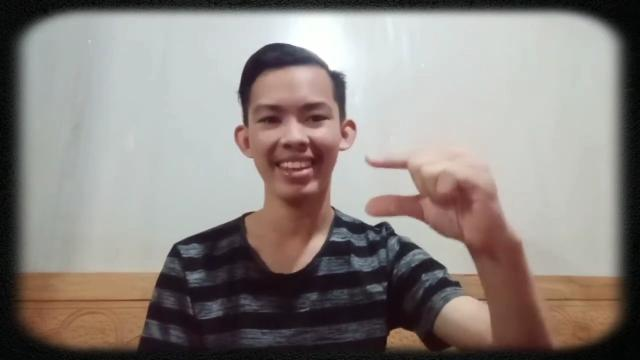G: (363, 150, 521, 255)
